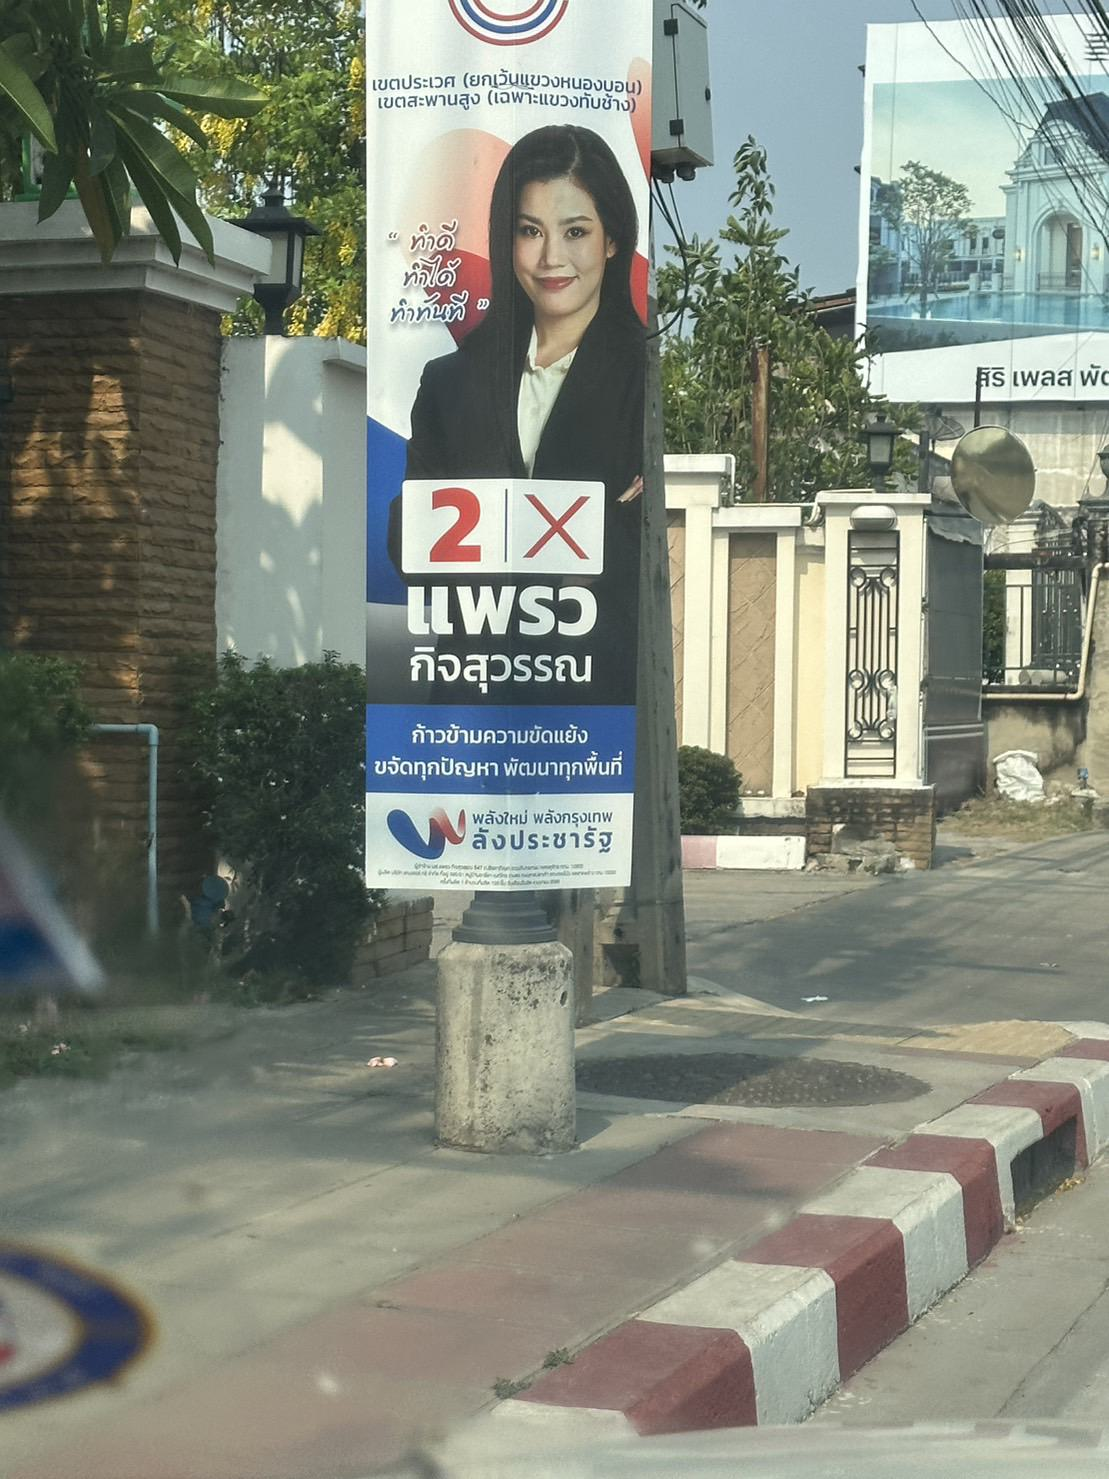Banner: (358, 0, 652, 905)
